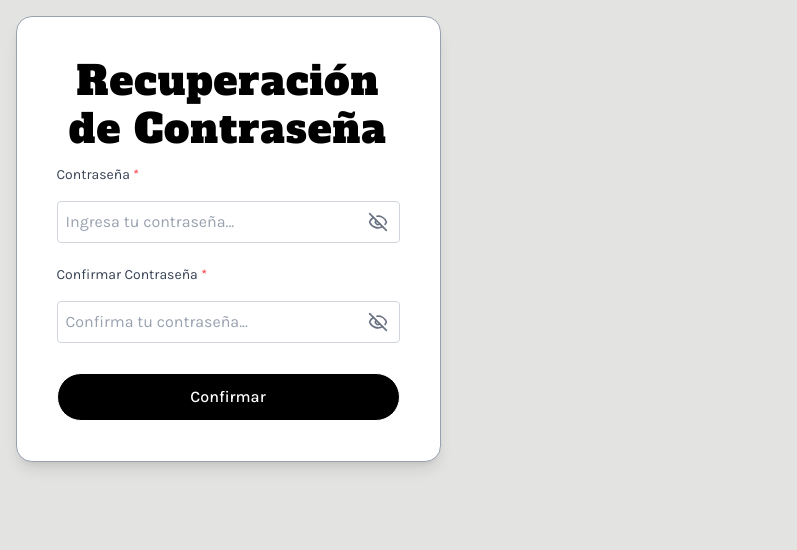
it: ResetPage › muestra mensaje de éxito si la contraseña es válida y coincide
Type "Admin1234" into the password field with test id "password-input" at [228, 222], box [56,201,400,243]
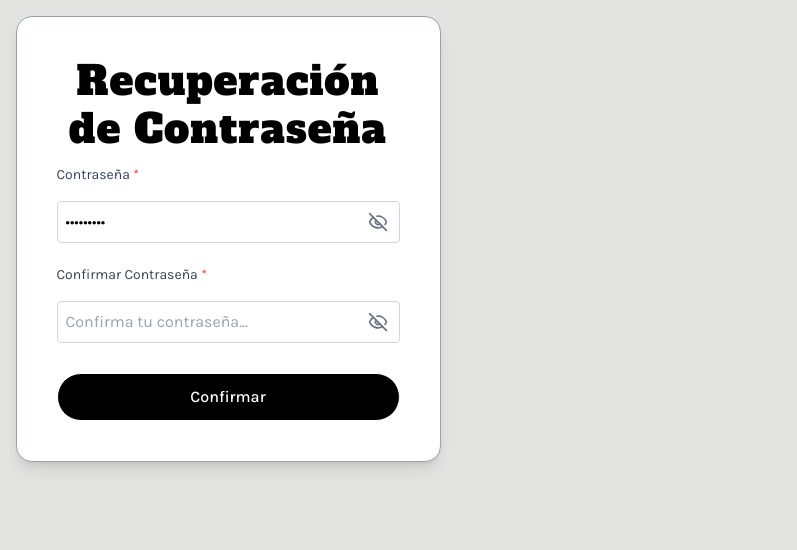
Type "Admin1234" into the password field with test id "confirmation-input" at [228, 322], box [56,301,400,343]
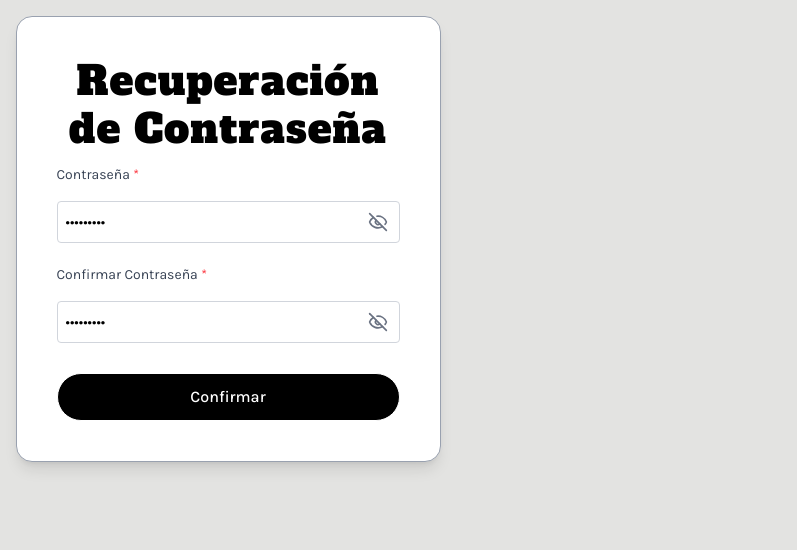
Click the button "Confirmar" at [228, 397], box [56,373,400,421]
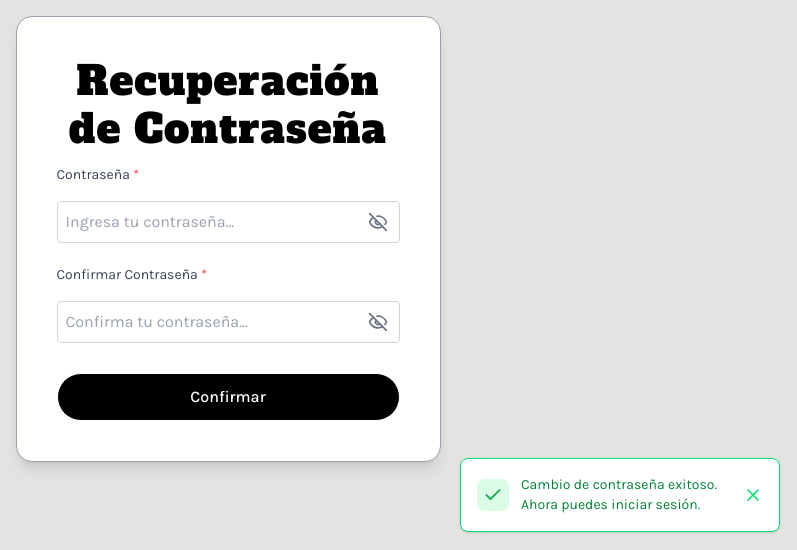
Now the text "Cambio de contraseña exitoso. Ahora puedes iniciar sesión." is shown, box [521,475,737,515]
